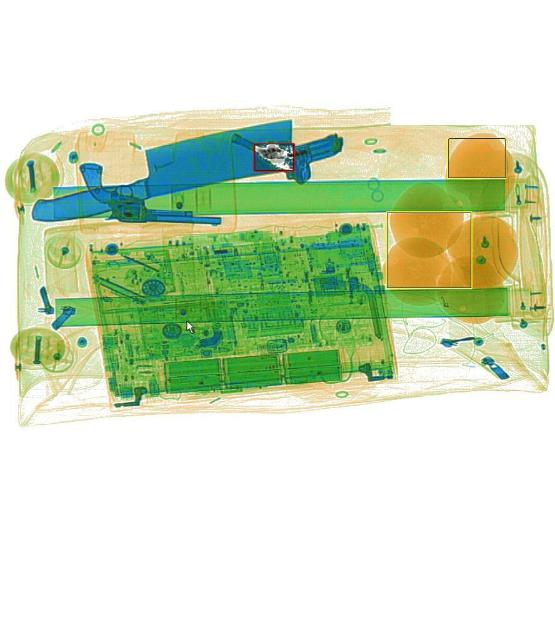Gun: (227, 89, 344, 193), (76, 160, 221, 226)
Knife: (23, 116, 300, 228)
